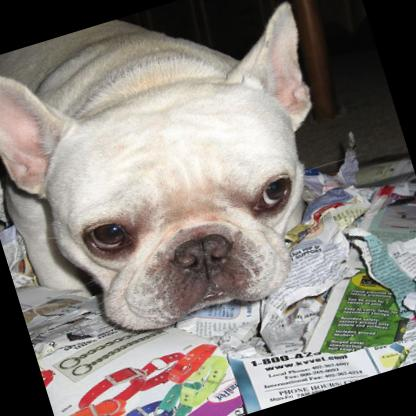French_bulldog: (0, 0, 370, 367)
